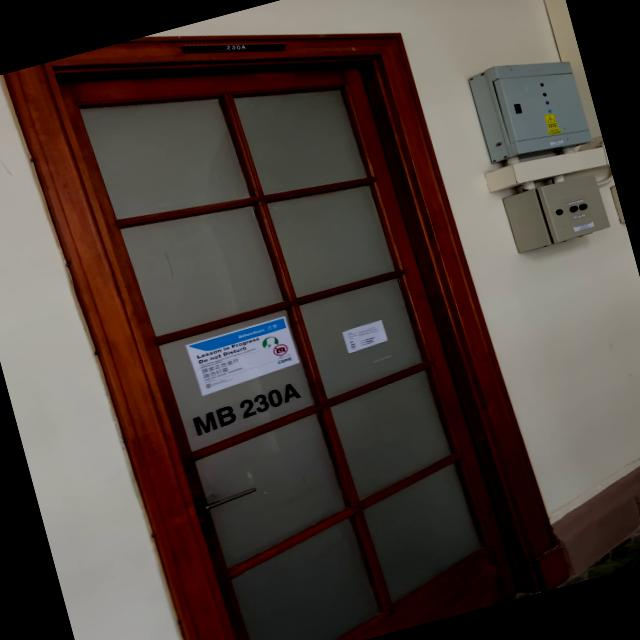room230A: (178, 18, 286, 76)
room230AWindow: (185, 372, 314, 438)
